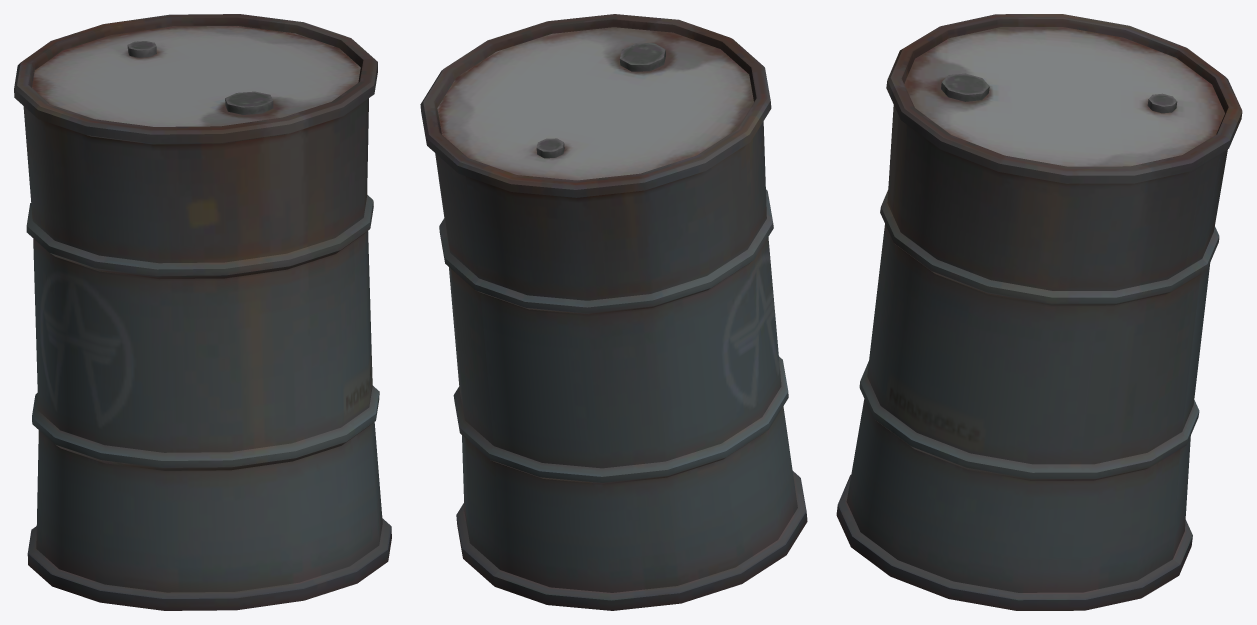
Rendered from ItemSpot.fbx.
The picture shows the model from 3 angles, left to right: view 1: azimuth 30°, elevation 25°; view 2: azimuth 150°, elevation 25°; view 3: azimuth 270°, elevation 25°; orthographic projection. The views are drawn at different scales.
Parts seen in each view (by area): view 1: ItemBox_Drum_W; view 2: ItemBox_Drum_W; view 3: ItemBox_Drum_W.
Part boxes in pixels (<box>): ItemBox_Drum_W: <box>14,14,391,610</box>; ItemBox_Drum_W: <box>420,14,807,610</box>; ItemBox_Drum_W: <box>836,14,1242,610</box>.
Size of the model in its own units: 0.6772 by 0.9638 by 0.742.
1 material, 1 textured.
